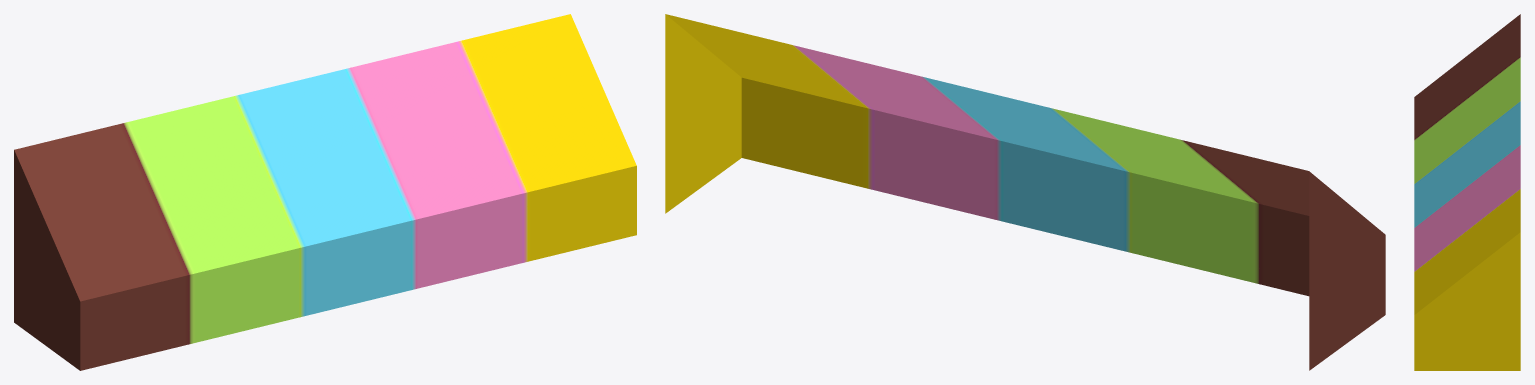
Rendered from Town_Bld-sm_Obj_AwningA.FBX.
The picture shows the model from 3 angles, left to right: view 1: azimuth 30°, elevation 25°; view 2: azimuth 150°, elevation 25°; view 3: azimuth 270°, elevation 25°; orthographic projection. The views are drawn at different scales.
Parts seen in each view (by area): view 1: Town_Bld-sm_Obj_AwningA; view 2: Town_Bld-sm_Obj_AwningA; view 3: Town_Bld-sm_Obj_AwningA.
Boxes of the visible parts, x1=… form: Town_Bld-sm_Obj_AwningA: x1=14, y1=14, x2=636, y2=370; Town_Bld-sm_Obj_AwningA: x1=665, y1=14, x2=1385, y2=370; Town_Bld-sm_Obj_AwningA: x1=1414, y1=14, x2=1520, y2=370.
Size of the model in its own units: 284 by 84.27 by 58.42.
